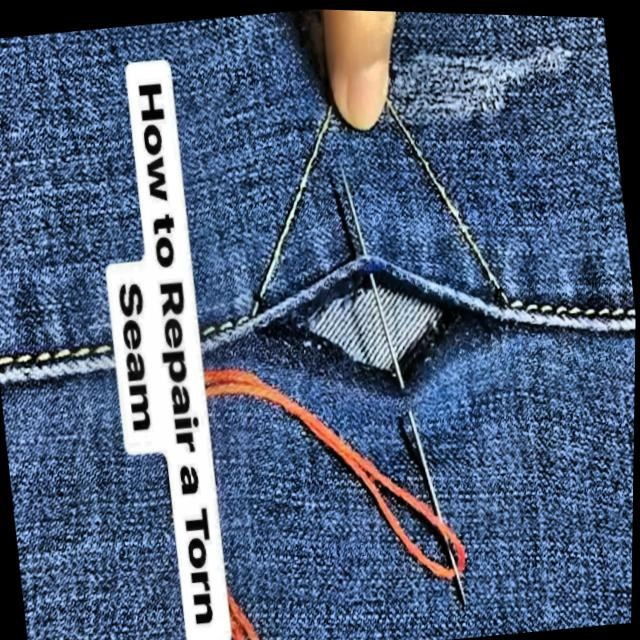seam: (233, 207, 509, 423)
